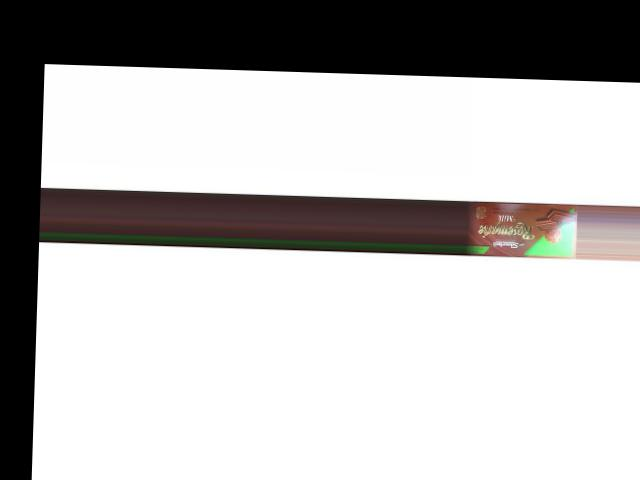chocolate: (464, 201, 576, 257)
